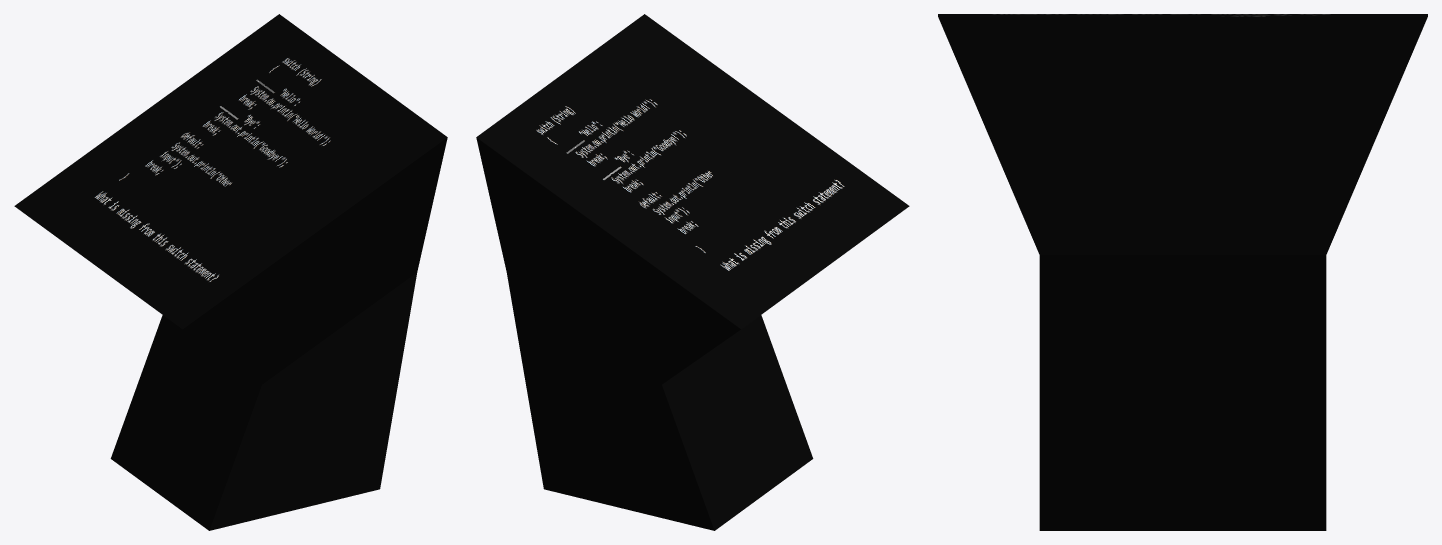
File: plinth2.fbx
3 renders of one model, left to right at view 1: azimuth 30°, elevation 25°; view 2: azimuth 150°, elevation 25°; view 3: azimuth 270°, elevation 25°, orthographic. The views are drawn at different scales.
Parts seen in each view (by area): view 1: Cube; view 2: Cube; view 3: Cube.
Part boxes in pixels (bbox=[...]): Cube: bbox=[14, 14, 447, 530]; Cube: bbox=[476, 14, 909, 530]; Cube: bbox=[938, 14, 1427, 530].
Size of the model in its own units: 185 by 242 by 200.
